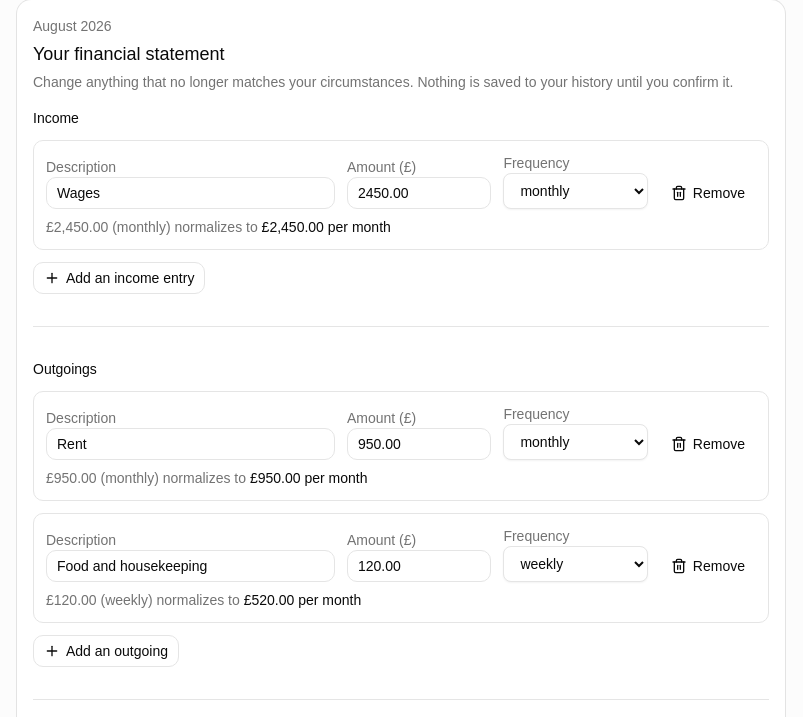
Test: StatementEditor › lists every invalid field, moves focus to the summary, and preserves what was entered
Replace the text in the field named "wages amount" with "-5.00": (419, 193) [347,177,491,209]
(page scrolled)
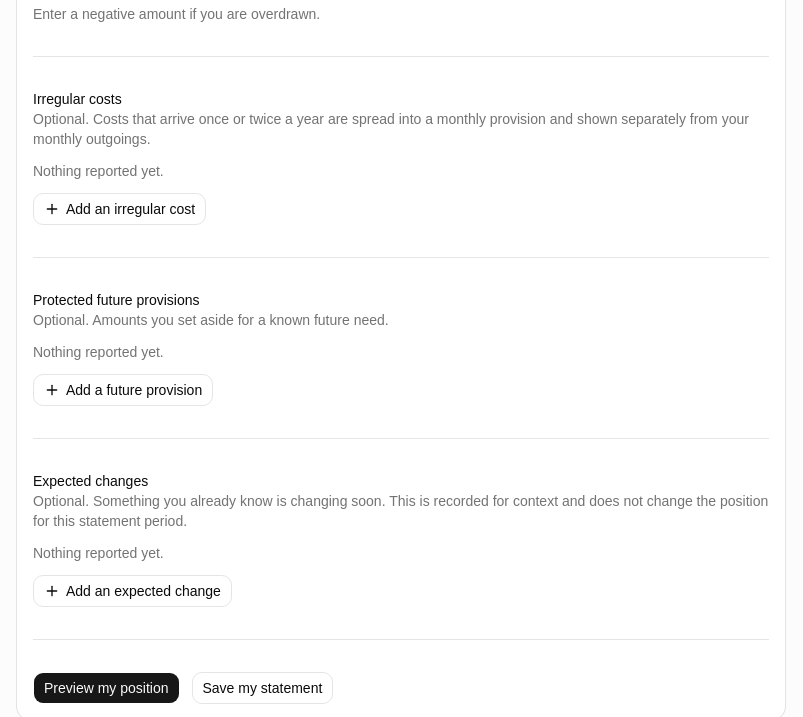
Click the button "Save my statement": (262, 688) [192,672,333,704]
(page scrolled)
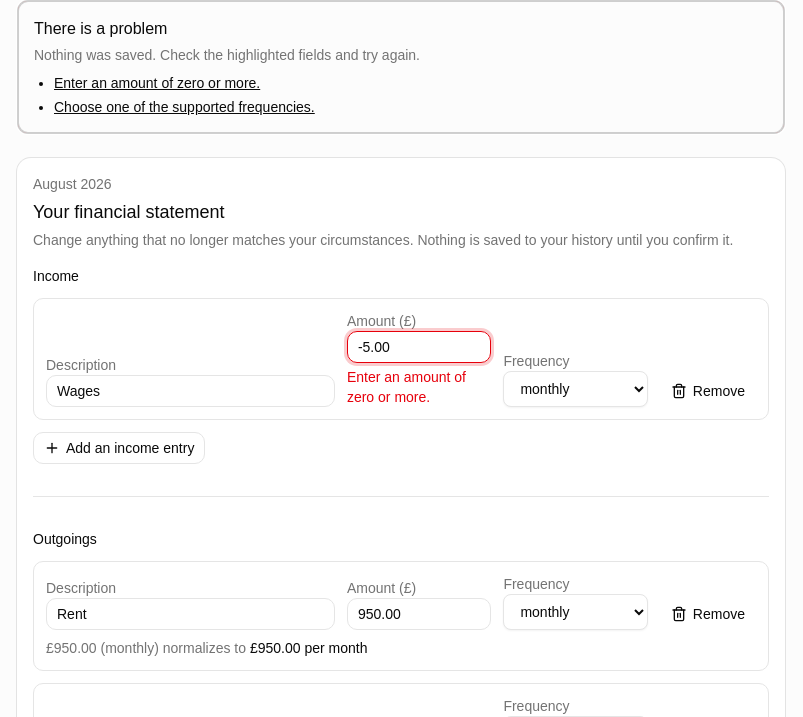
Expected: the link "Enter an amount of zero or more." is shown, [54,75,260,91]
Expected: the link "Choose one of the supported frequencies." is shown, [54,99,315,115]
Expected: the text "Nothing was saved" is shown, [34,47,420,63]
